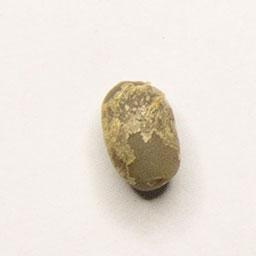peaberry: (98, 76, 185, 197)
